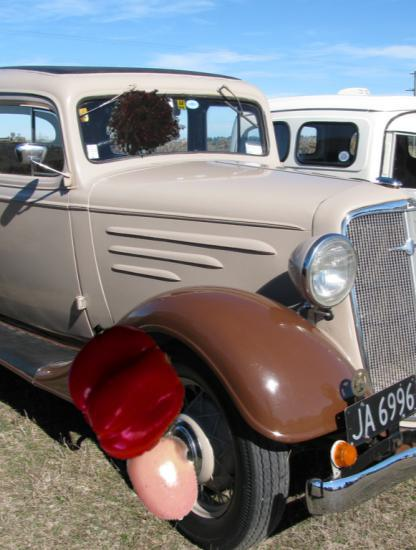Kaki: (118, 432, 210, 524)
Pepper: (59, 324, 189, 454)
Rambutan: (107, 84, 187, 164)
